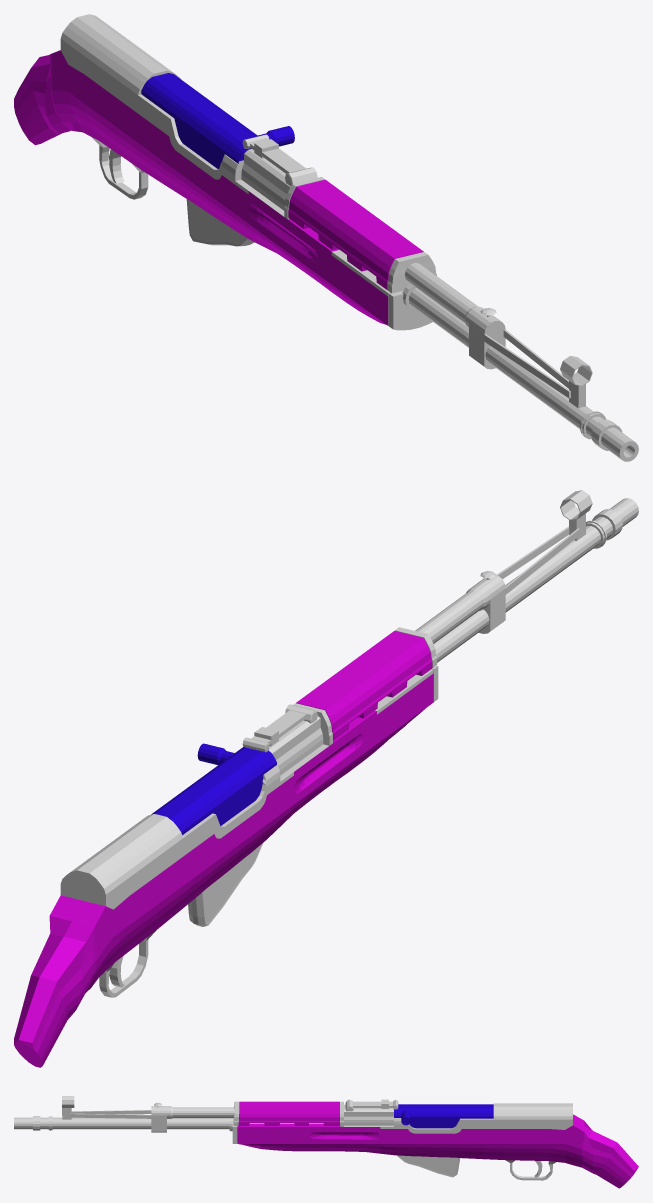
Rendered from Sawn_SKS.fbx.
3 renders of one model, top to bottom at view 1: azimuth 30°, elevation 25°; view 2: azimuth 150°, elevation 25°; view 3: azimuth 270°, elevation 25°, orthographic. The views are drawn at different scales.
Parts seen in each view (by area): view 1: Cube; view 2: Cube; view 3: Cube.
Part boxes in pixels (left/top/right/bottom): Cube: left=14, top=14, right=638, bottom=461; Cube: left=14, top=490, right=638, bottom=1067; Cube: left=14, top=1096, right=638, bottom=1188.
Bounding box in the file's own units: 0.0294 × 0.0753 × 0.4664.
